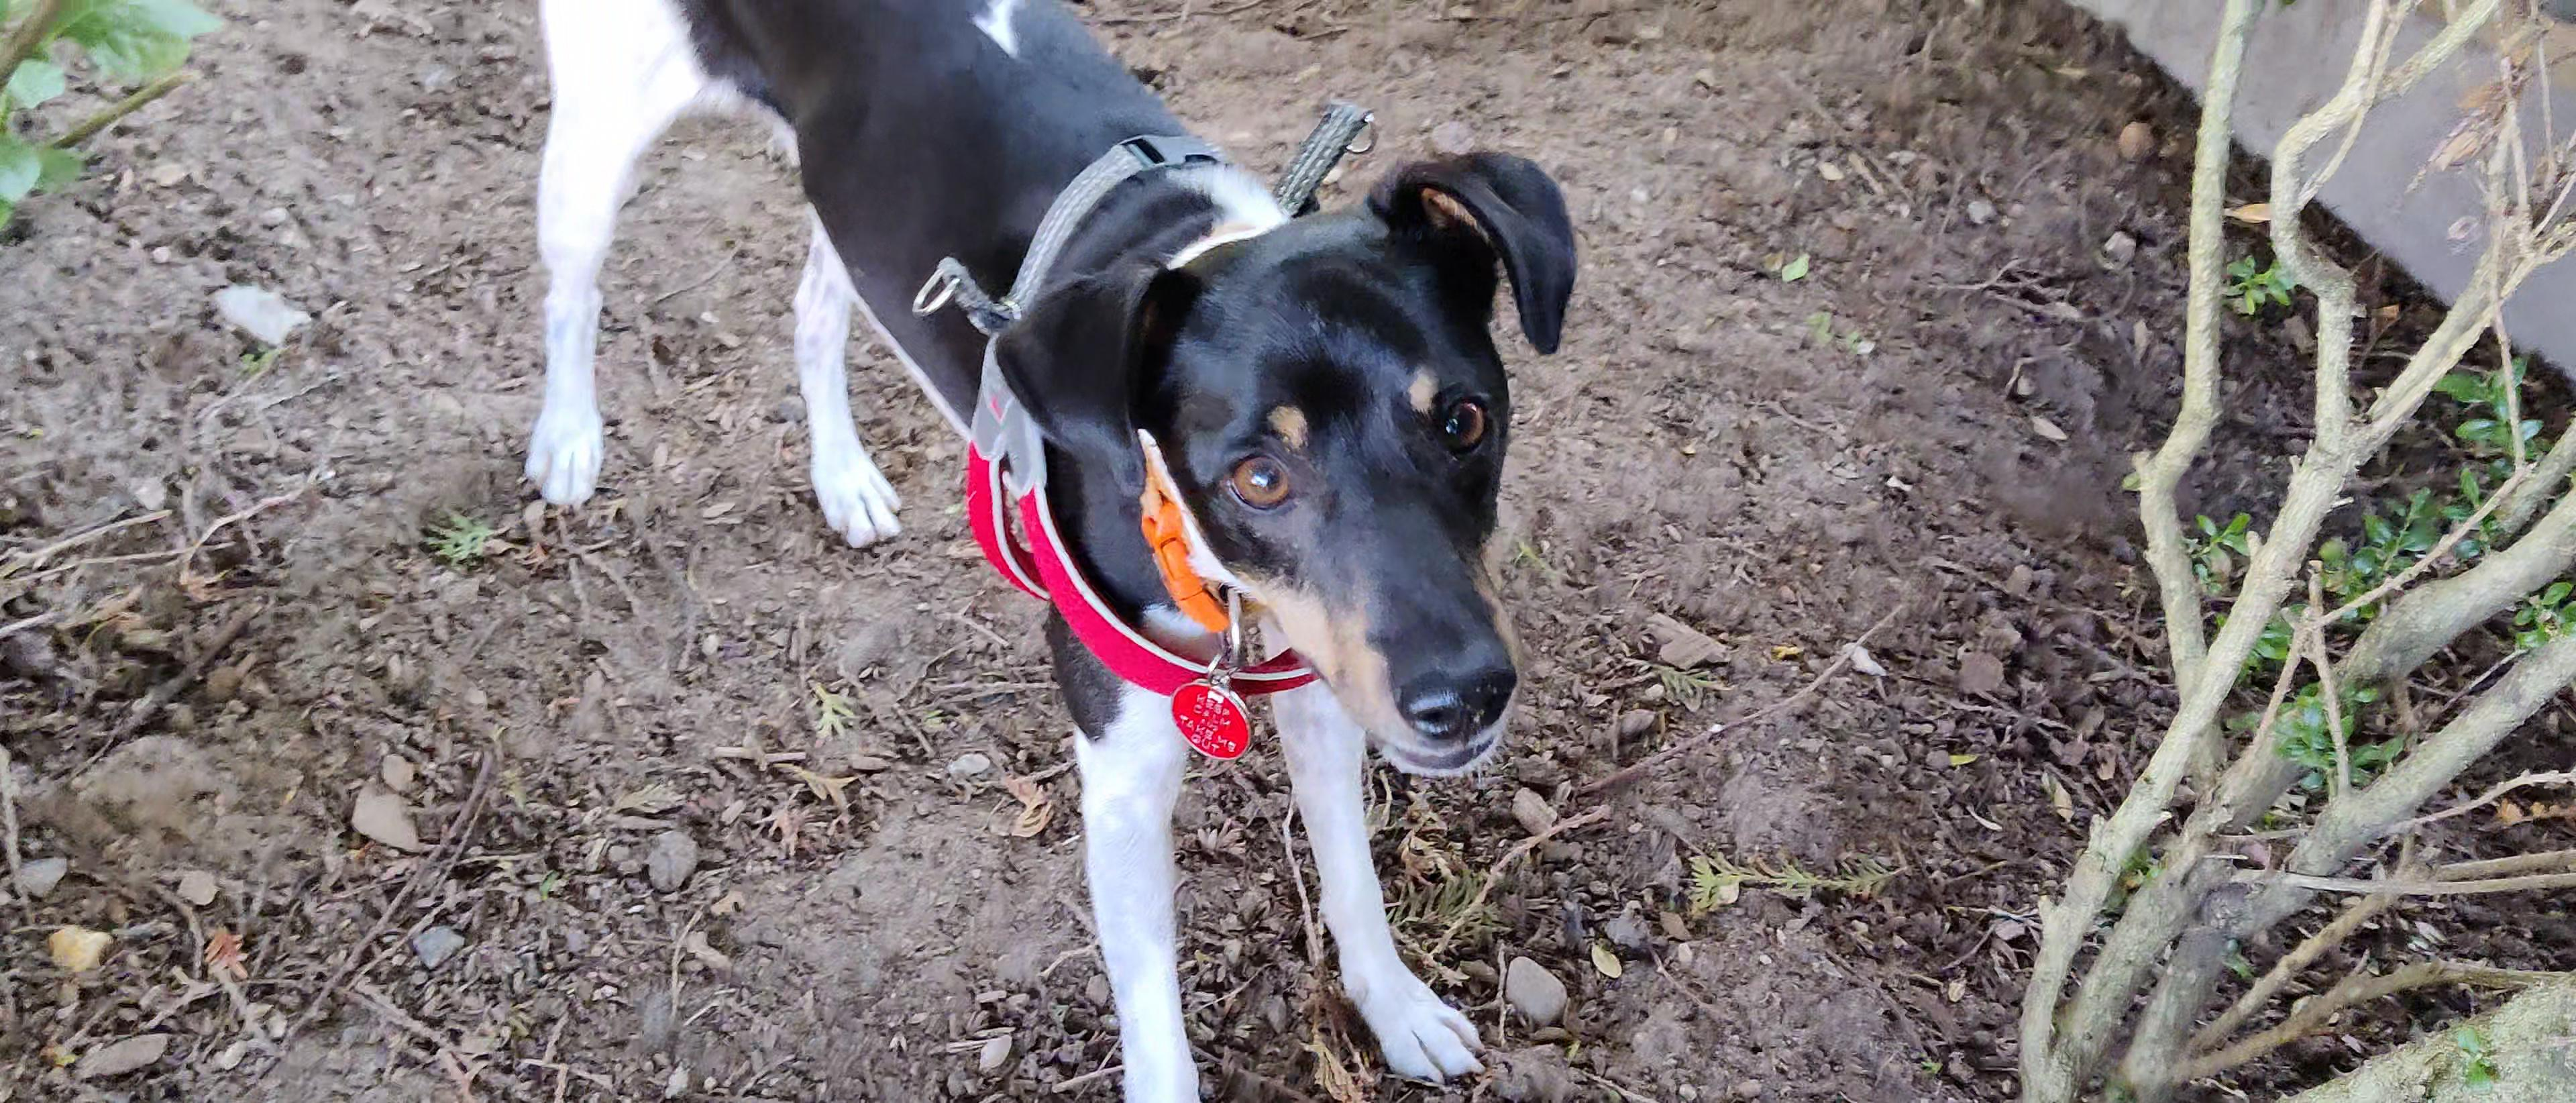Dog: (514, 0, 1585, 1103)
